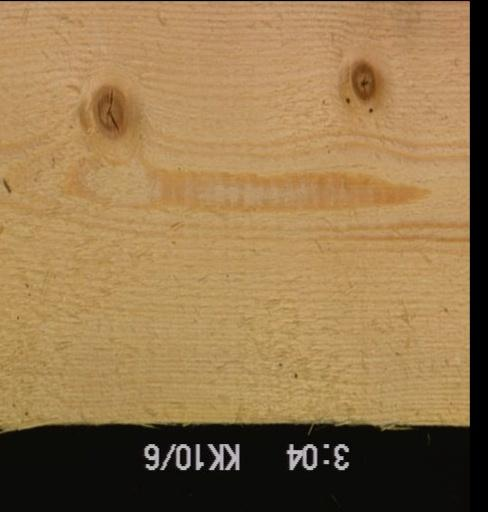sound_knot: (90, 82, 131, 138), (350, 61, 376, 101)
